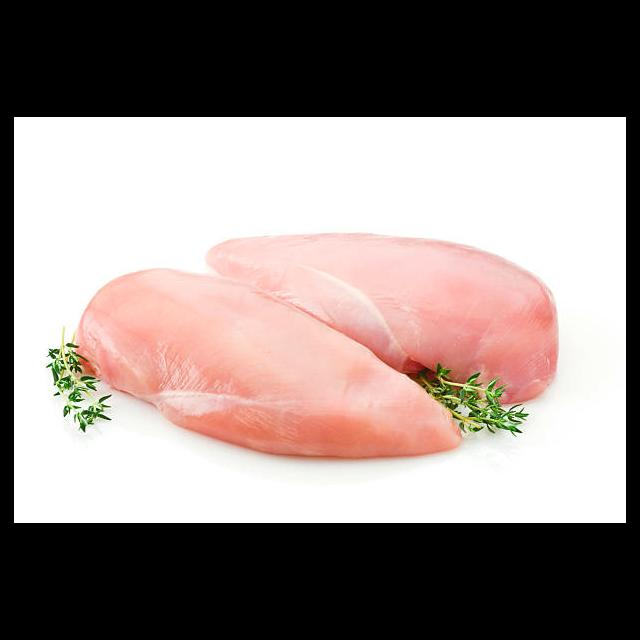chicken: (71, 265, 467, 459), (201, 235, 558, 398)
